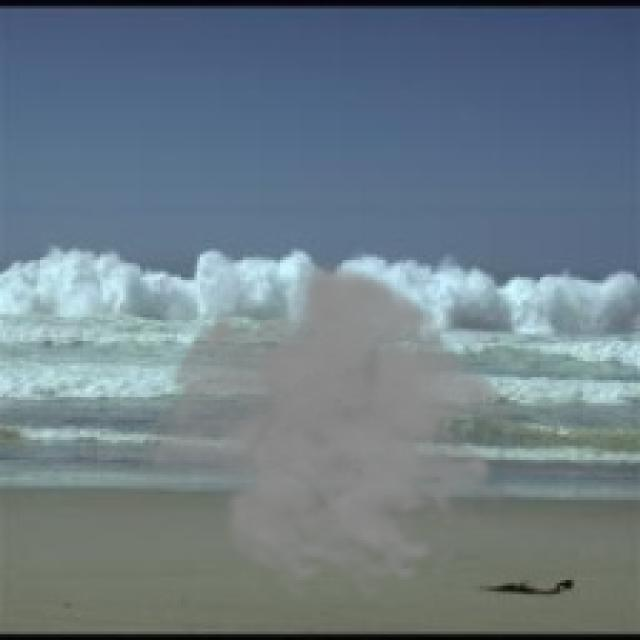Smoke: (132, 257, 532, 603)
